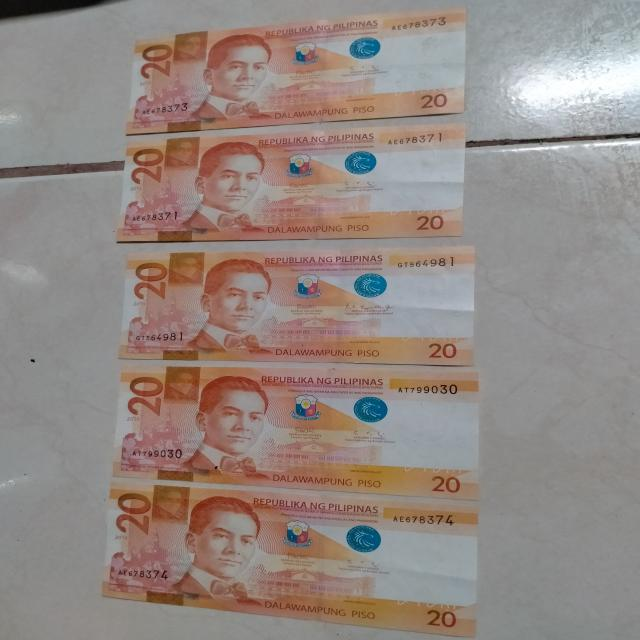concealed_value: (164, 363, 204, 408), (164, 134, 202, 170)
see_through_mark: (382, 200, 446, 218), (397, 332, 462, 346)
serial_number: (394, 377, 462, 398), (392, 250, 457, 269), (128, 445, 190, 463), (130, 330, 188, 344)
value: (124, 261, 167, 304), (131, 147, 168, 188)
value_watermark: (434, 173, 452, 191), (449, 304, 464, 320)
watermark: (393, 393, 472, 466), (390, 265, 462, 333)
